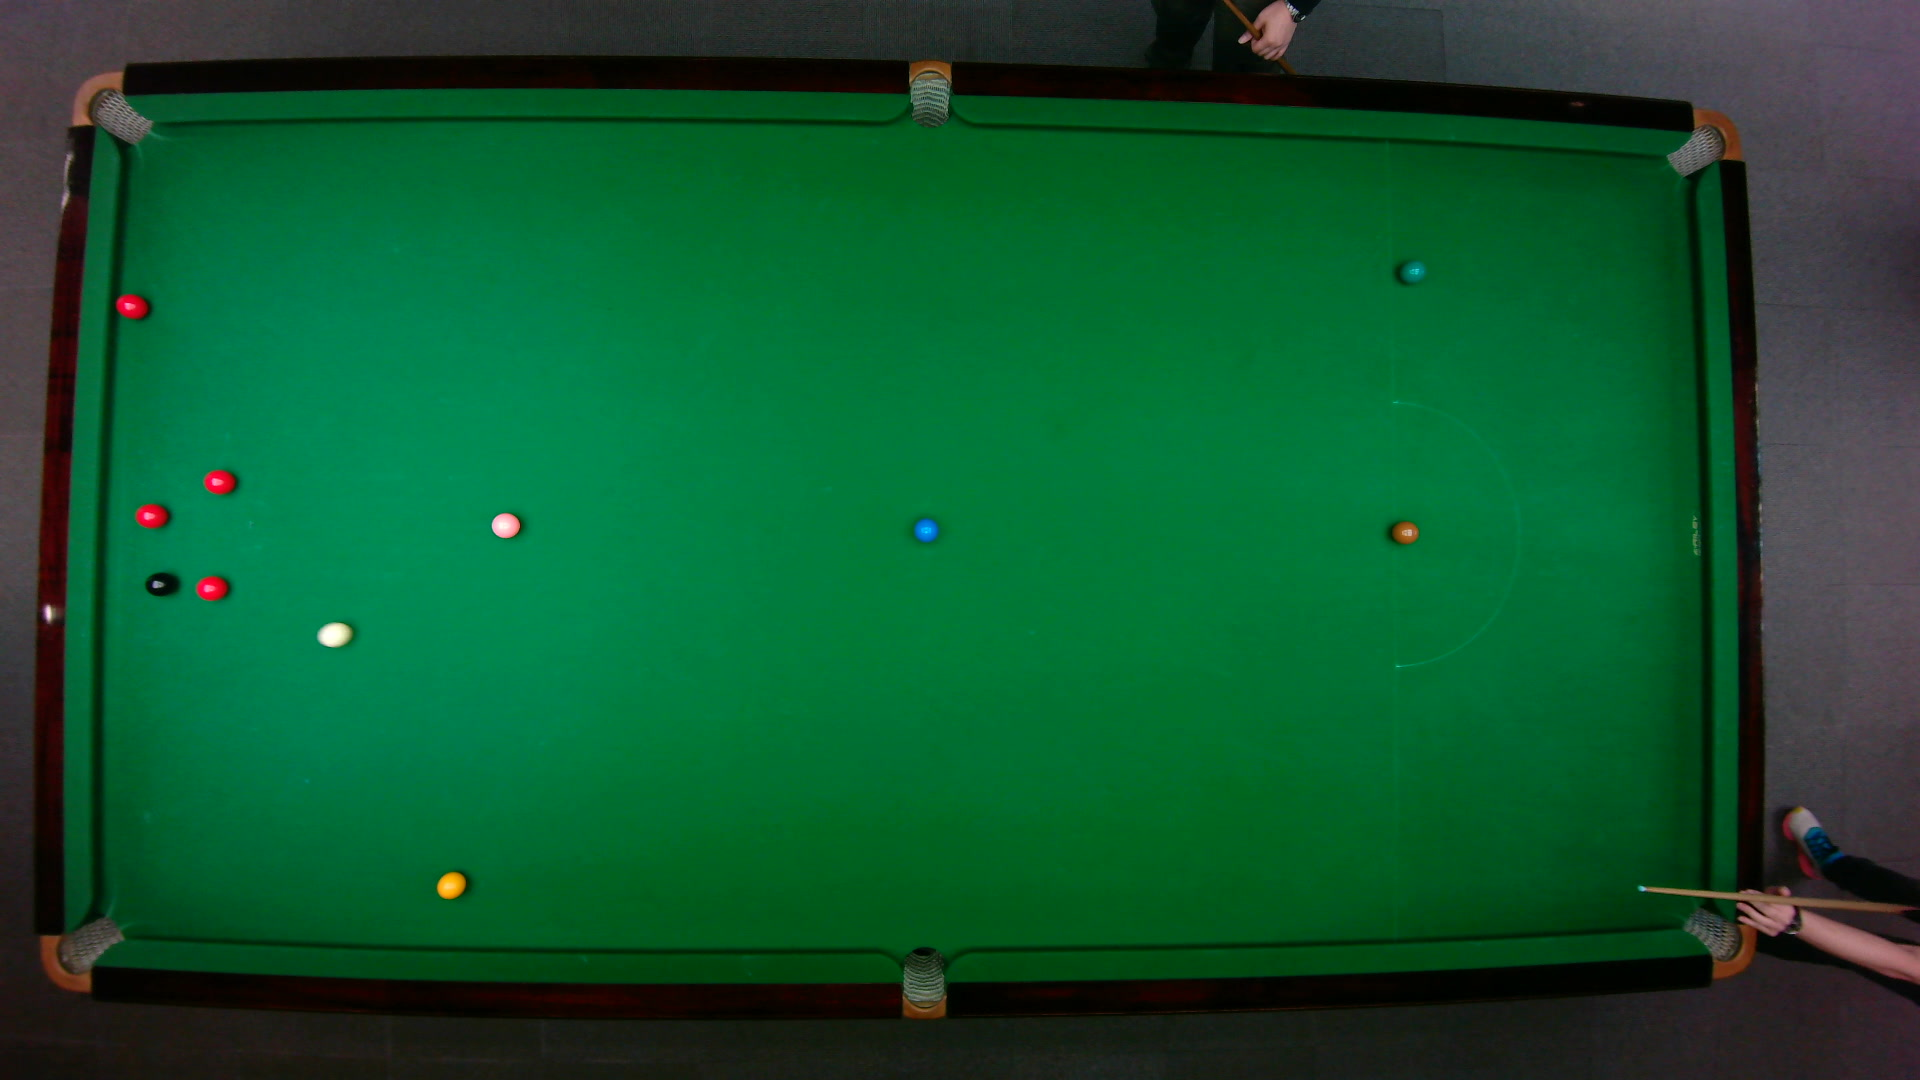bag: (40, 915, 125, 994), (71, 70, 156, 145), (1665, 108, 1745, 179), (1680, 907, 1756, 980), (903, 945, 945, 1021), (909, 59, 951, 128)
black: (144, 572, 177, 597)
blue: (914, 518, 939, 543)
brown: (1391, 520, 1420, 545)
cue: (1636, 884, 1920, 919)
green: (1398, 260, 1427, 285)
pink: (491, 512, 521, 539)
red: (115, 293, 150, 320), (135, 502, 169, 530), (196, 575, 229, 603), (203, 469, 237, 496)
white: (315, 621, 355, 649)
yellow: (436, 872, 468, 901)
zone: (1391, 400, 1522, 670)
